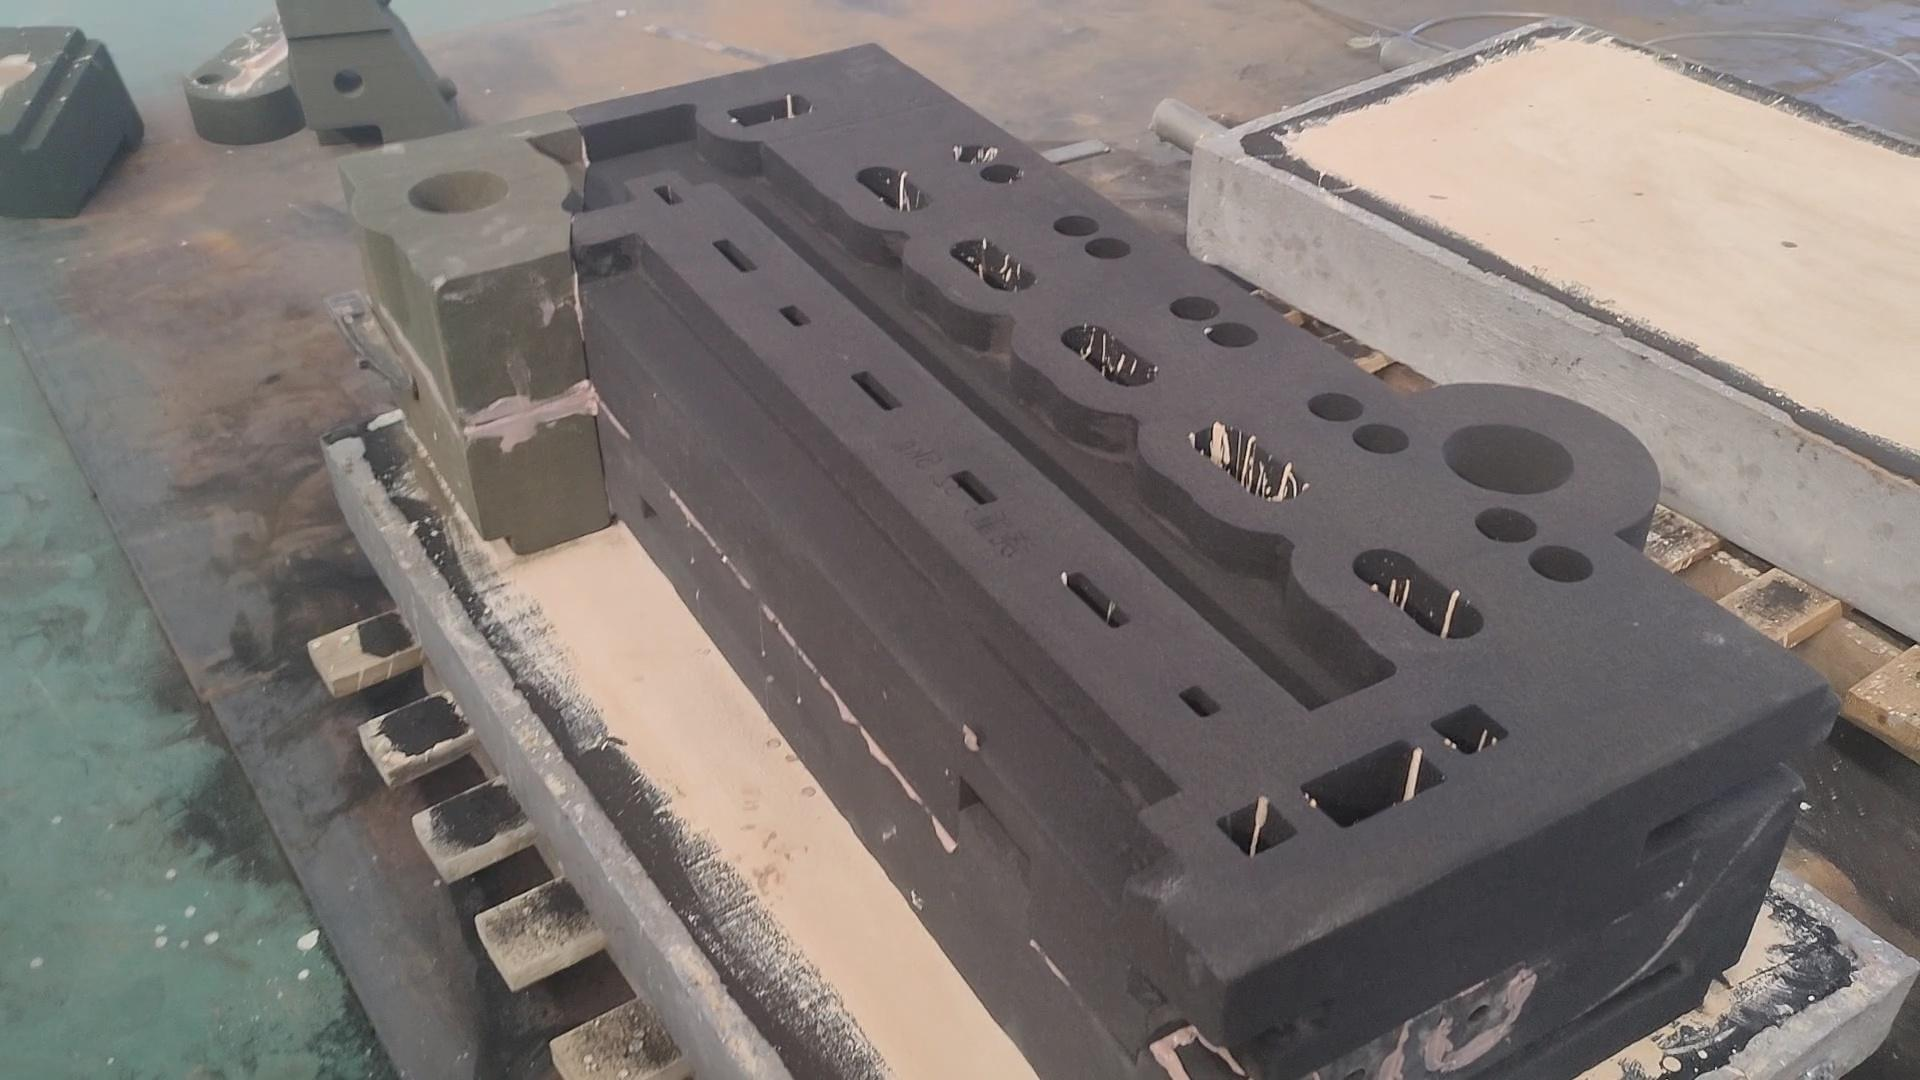pouring hole: (1443, 421, 1575, 495), (409, 169, 509, 214)
